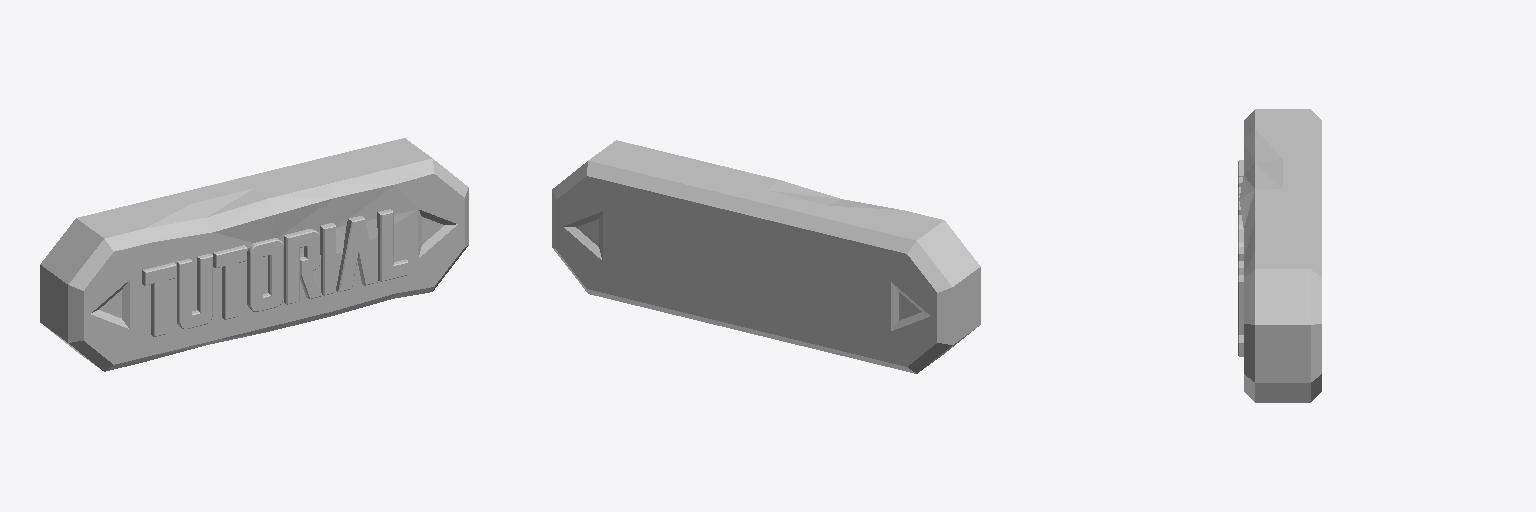
File: tutorial.obj
The picture shows the model from 3 angles: view 1: azimuth 30°, elevation 25°; view 2: azimuth 150°, elevation 25°; view 3: azimuth 270°, elevation 25°; orthographic projection.
Visible parts, largest first — view 1: Tutorial_Cube.001; view 2: Tutorial_Cube.001; view 3: Tutorial_Cube.001.
Part boxes in pixels (x1,y1,x2,y2): Tutorial_Cube.001: (40, 138, 468, 371); Tutorial_Cube.001: (552, 140, 980, 373); Tutorial_Cube.001: (1238, 109, 1321, 402).
Size of the model in its own units: 4.23 by 1.34 by 0.7723.